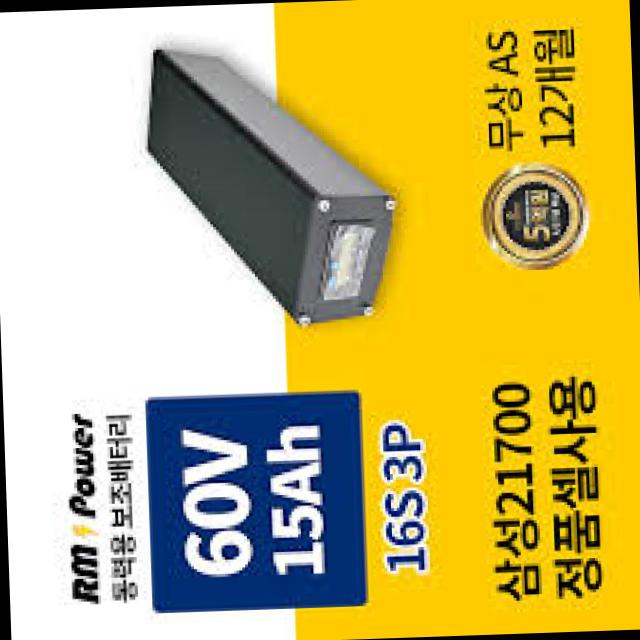power_bank: (137, 38, 407, 329)
